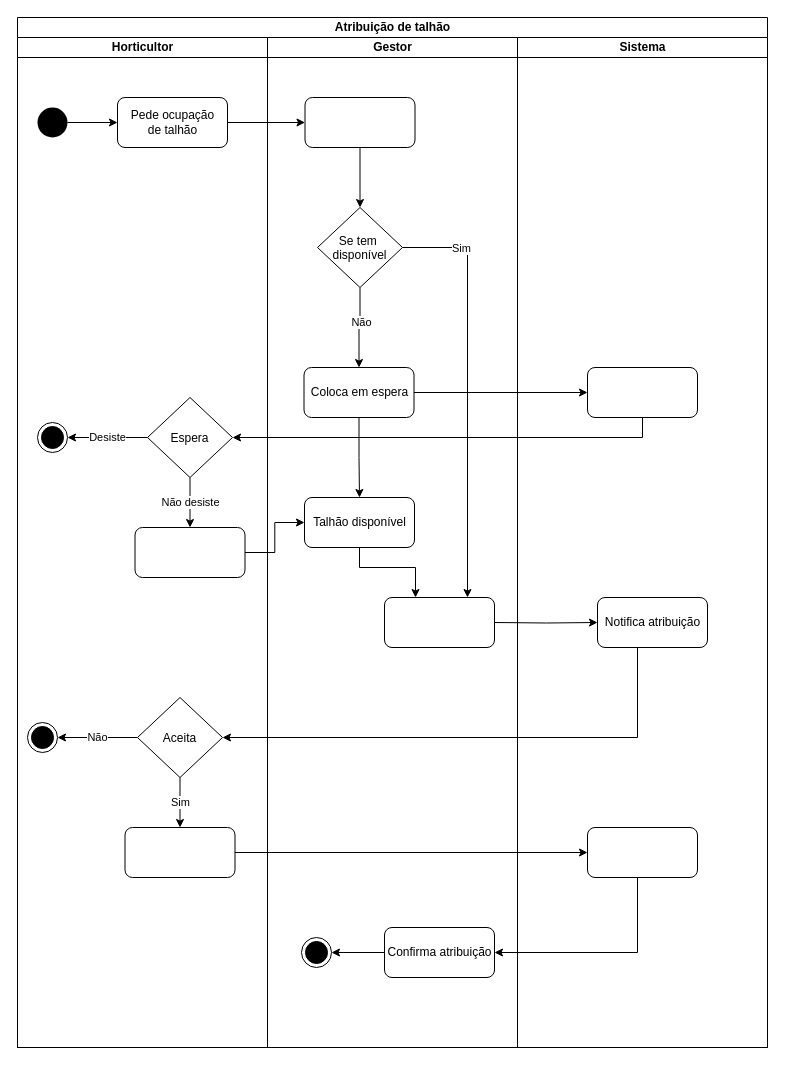
The diagram is 785 pixels wide and 1065 high, and some of its shapes have lost their labels. The centre of each missing label's shape, as x and y in pixels:
Aceita disponibilidade: the point at 179,852
Aguarda disponibilidade: the point at 189,552
Atribui talhão: the point at 439,622
Notifica aceitação de atribuição: the point at 642,852
Notifica espera: the point at 642,392
Verifica disponibilidade: the point at 359,122
